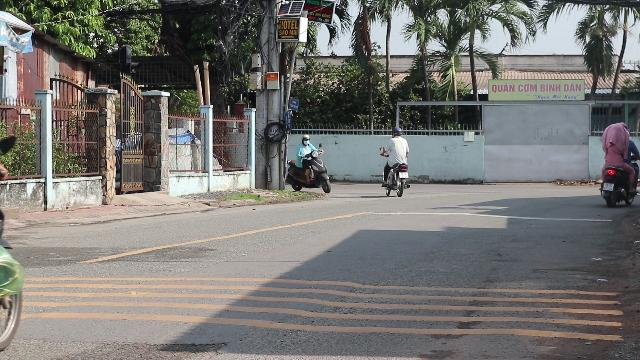licenseplate: (603, 183, 613, 190)
